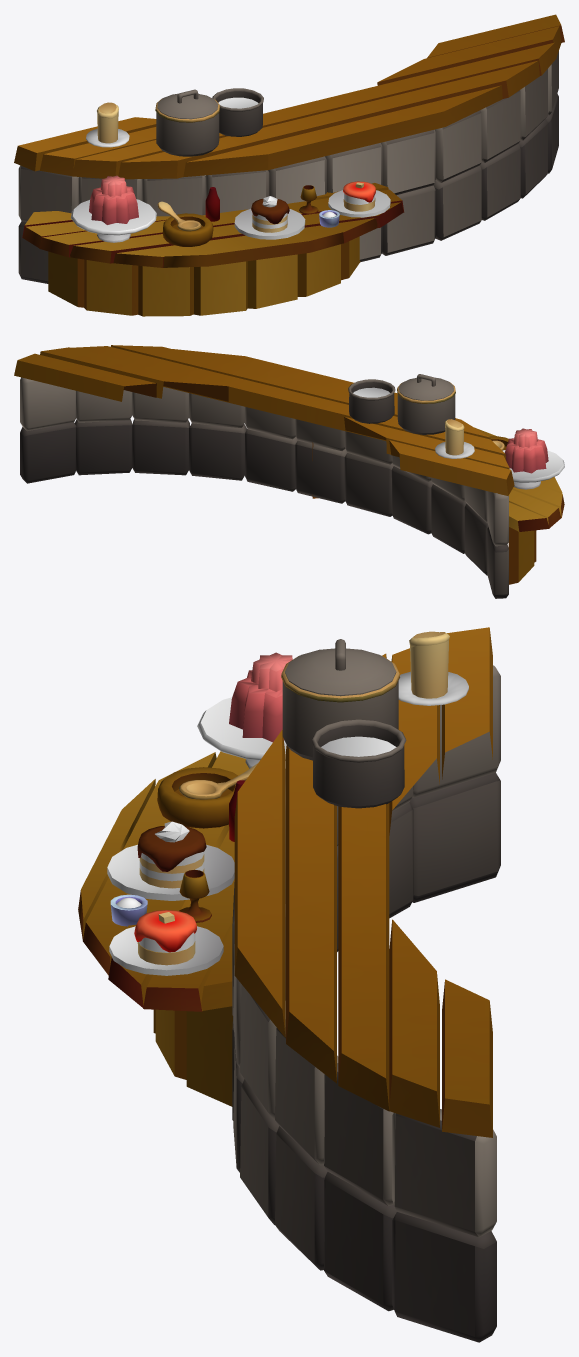
File: stage_test.fbx
3 renders of one model, top to bottom at view 1: azimuth 30°, elevation 25°; view 2: azimuth 150°, elevation 25°; view 3: azimuth 270°, elevation 25°, orthographic. The views are drawn at different scales.
Visible parts, largest first — view 1: Box009; view 2: Box009; view 3: Box009.
Part boxes in pixels (x1,y1,x2,y2): Box009: (14,14,564,316); Box009: (14,345,564,598); Box009: (78,627,500,1342).
Bounding box in the file's own units: 319 × 101 × 114.
